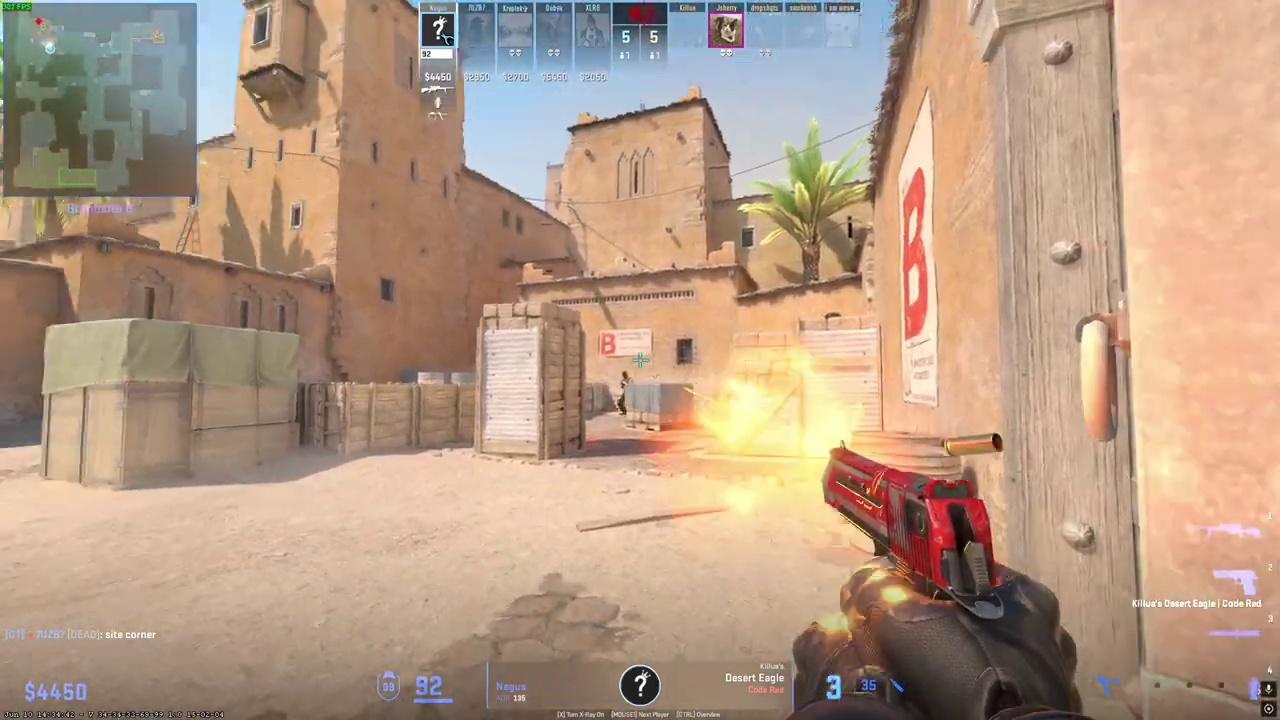Terrorist: (617, 370, 632, 415)
